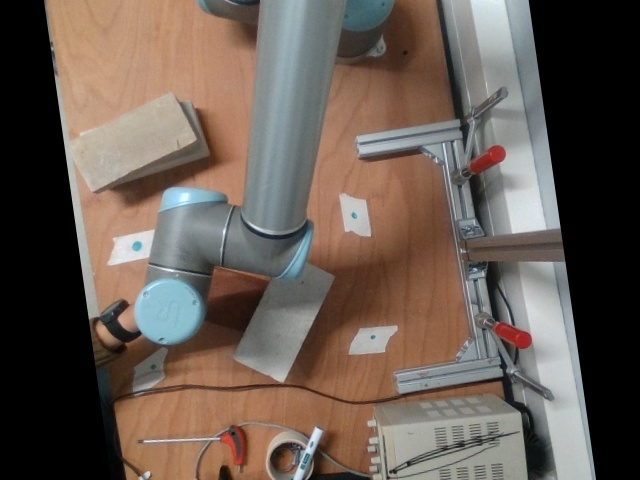brick: (69, 92, 196, 193)
